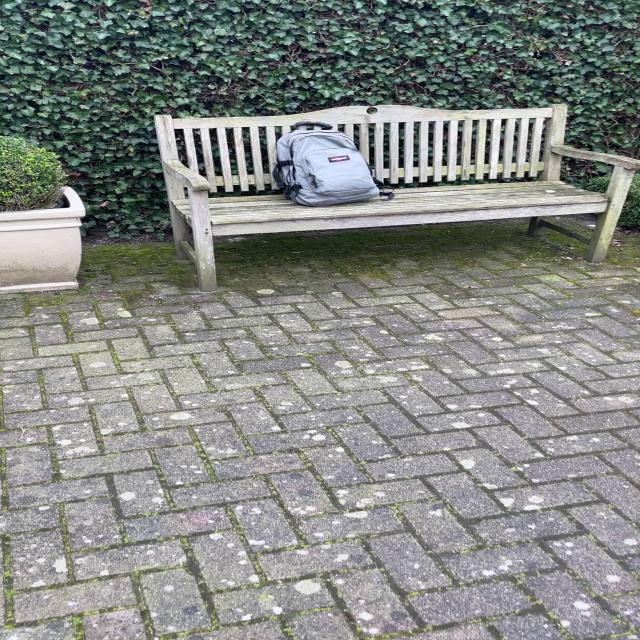backpack: (266, 120, 386, 208)
